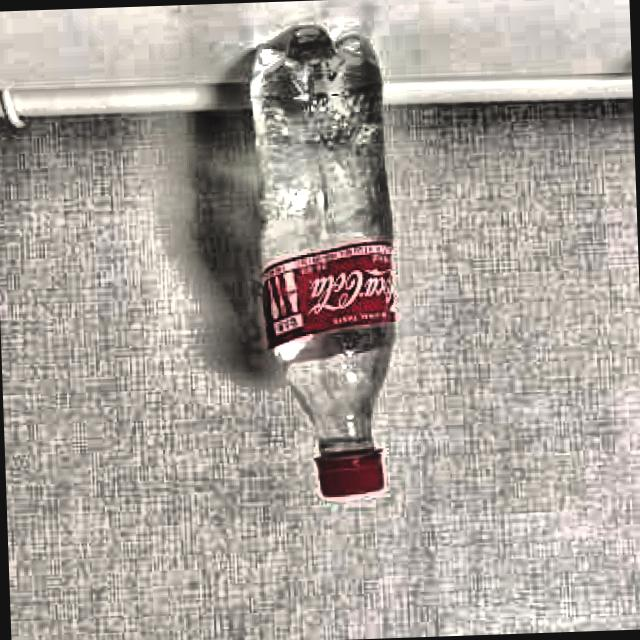plastic bottle: (247, 24, 394, 496)
